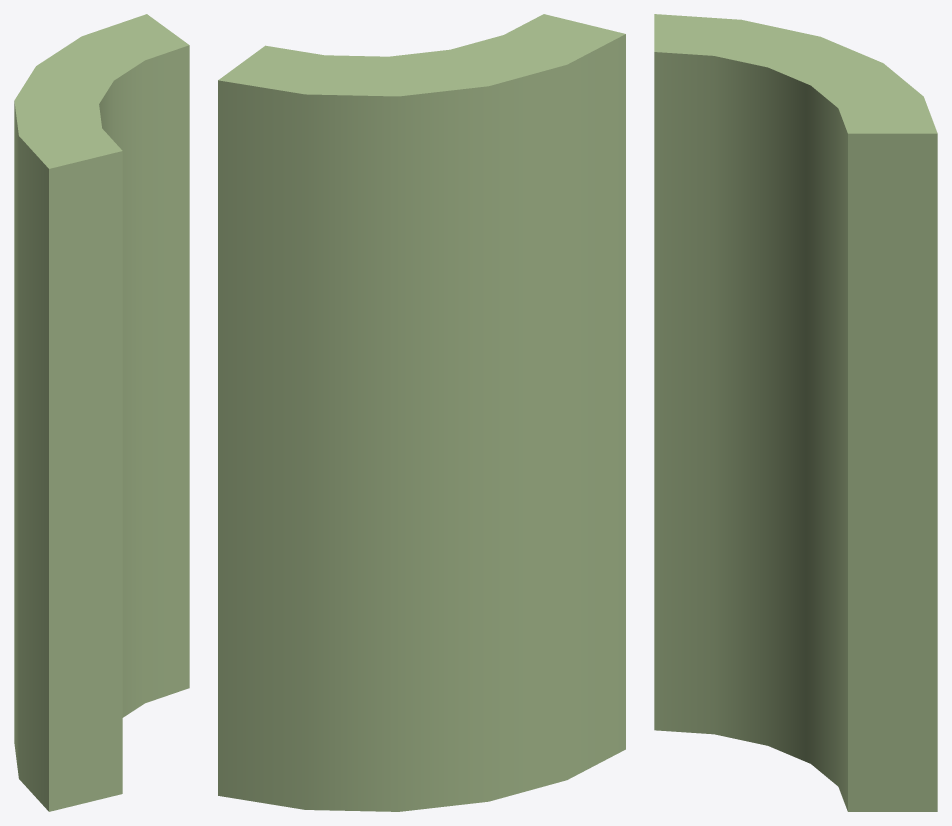
The model's file is stone_element_07_wall.fbx.
3 renders of one model, left to right at view 1: azimuth 30°, elevation 25°; view 2: azimuth 150°, elevation 25°; view 3: azimuth 270°, elevation 25°, orthographic. The views are drawn at different scales.
Visible parts, largest first — view 1: stone_element_07_wall; view 2: stone_element_07_wall; view 3: stone_element_07_wall.
Boxes of the visible parts, x1=… form: stone_element_07_wall: x1=14, y1=14, x2=189, y2=811; stone_element_07_wall: x1=218, y1=14, x2=625, y2=811; stone_element_07_wall: x1=654, y1=14, x2=937, y2=811.
Bounding box in the file's own units: 378 × 1000 × 379.
